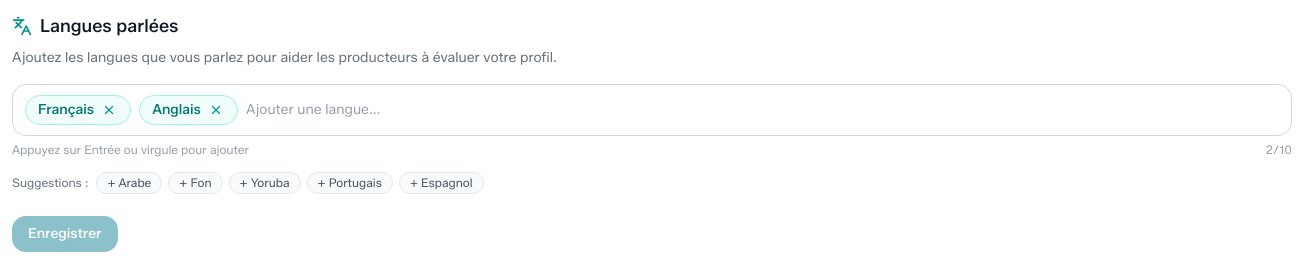
Test: LanguesTagInput › removes a tag when clicking remove button
Check: the number of elements with test id "langue-tag" is 2, box [25,95,131,125]; [139,95,238,125]
What coordinates should you click on to do the following:
click the 1st button with test id "remove-tag-button"
I would click on:
 (109, 110)
Its box is [100,101,118,119].
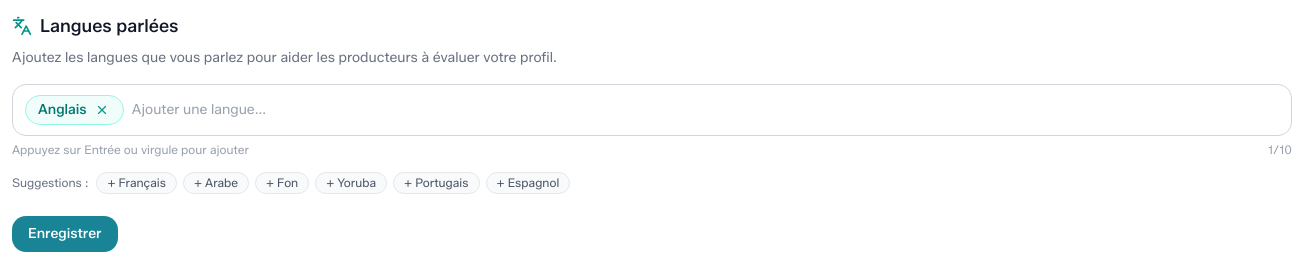
Check: the element with test id "langue-tag" reads "Anglais", box [38,101,87,118]
Check: the number of elements with test id "langue-tag" is 1, box [25,95,124,125]
